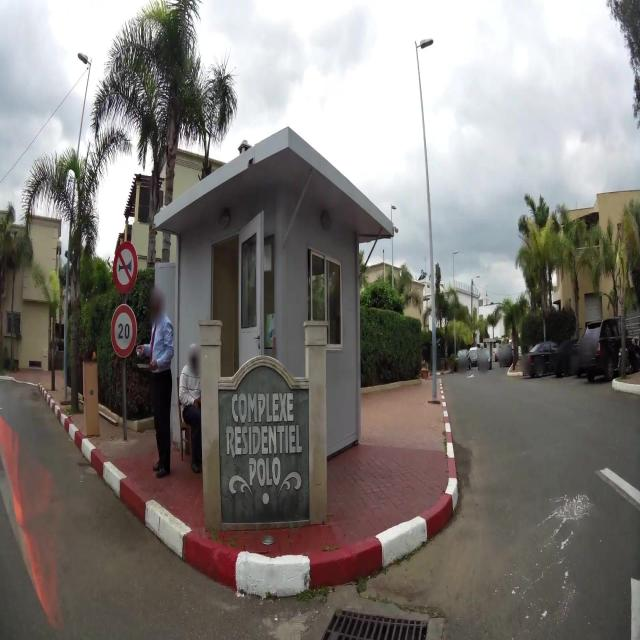car: (576, 316, 640, 382), (535, 337, 580, 378), (468, 344, 493, 371), (492, 340, 515, 366)
